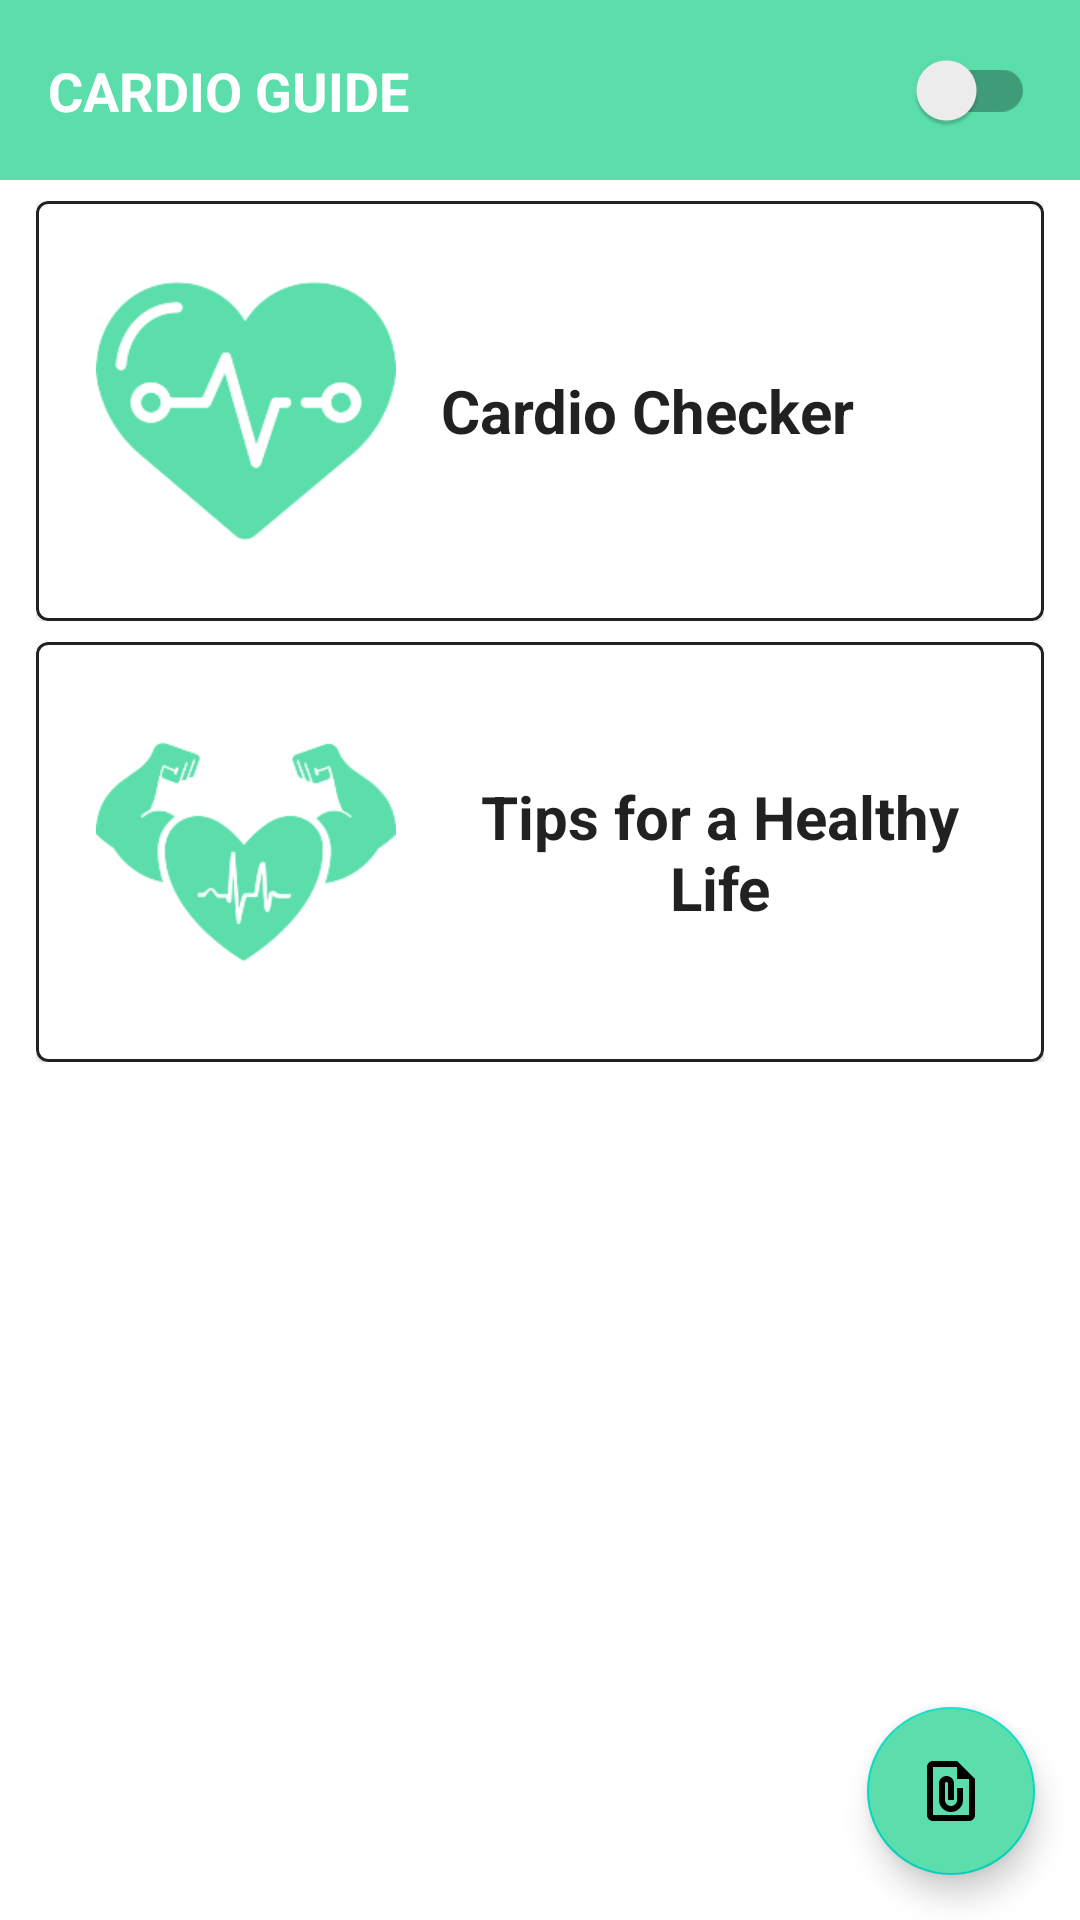

Screen size 1080x1920. Icon name, then its box in pixels as (x1, y1, x2, y2):
file: (867, 1707, 1035, 1875)
